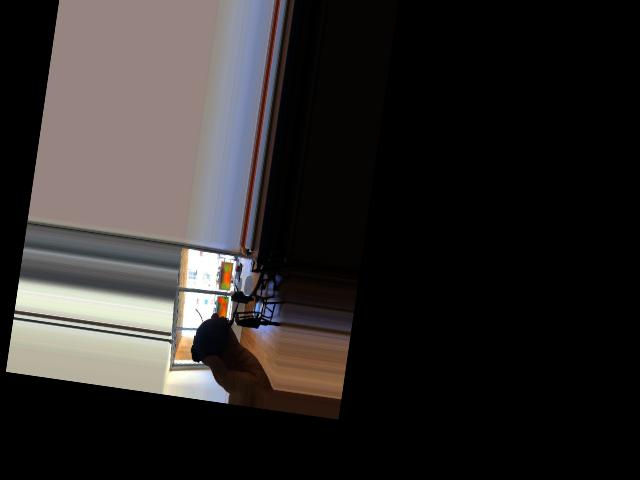beet: (189, 278, 241, 366)
